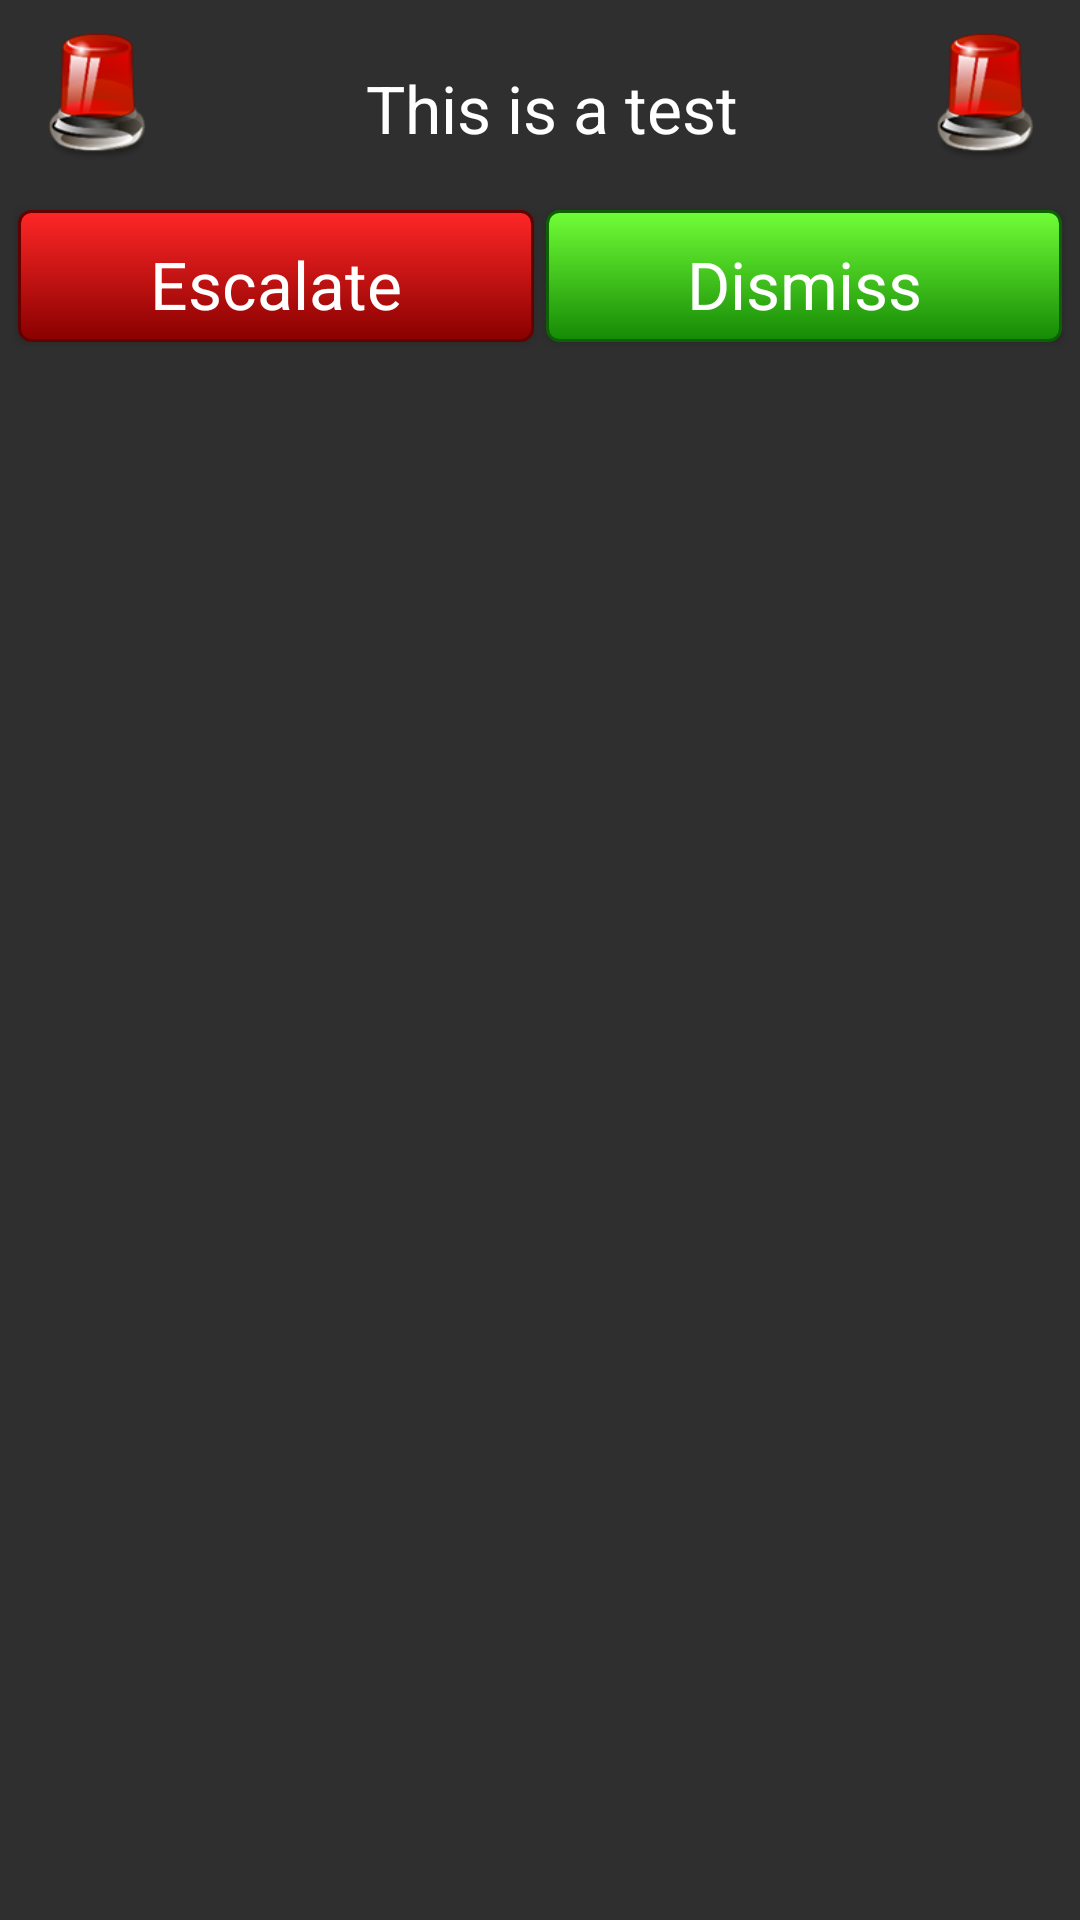

Icon bounding boxes for this 1080×1920 phone screenshot, format {"left": x1, "top": y1, "right": x2, "bottom": y2}:
siren: {"left": 50, "top": 33, "right": 145, "bottom": 151}, {"left": 938, "top": 33, "right": 1033, "bottom": 151}
